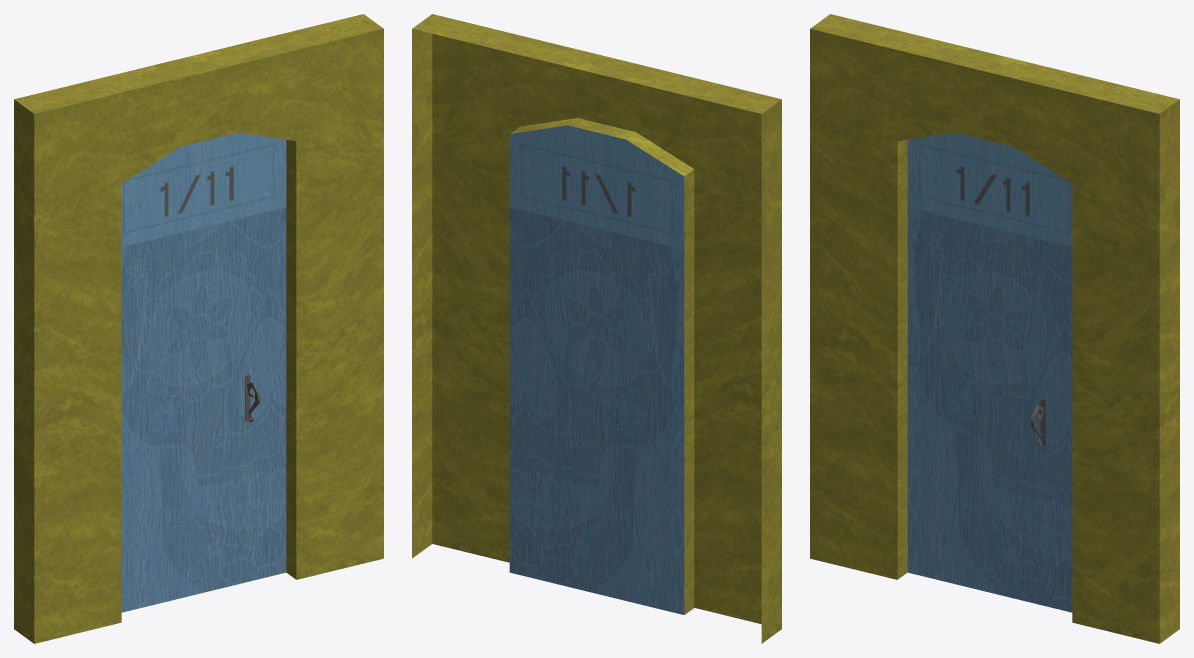
Rendered from Door2LOD.fbx.
3 views of the same model, side by side, from view 1: azimuth 30°, elevation 25°; view 2: azimuth 150°, elevation 25°; view 3: azimuth 330°, elevation 25° (orthographic).
Parts seen in each view (by area): view 1: Door2_LOD1; view 2: Door2_LOD1; view 3: Door2_LOD1.
Part boxes in pixels (left/top/right/bottom): Door2_LOD1: left=14, top=14, right=383, bottom=643; Door2_LOD1: left=412, top=14, right=781, bottom=643; Door2_LOD1: left=810, top=14, right=1179, bottom=643.
Bounding box in the file's own units: 200 × 290 × 21.3.
